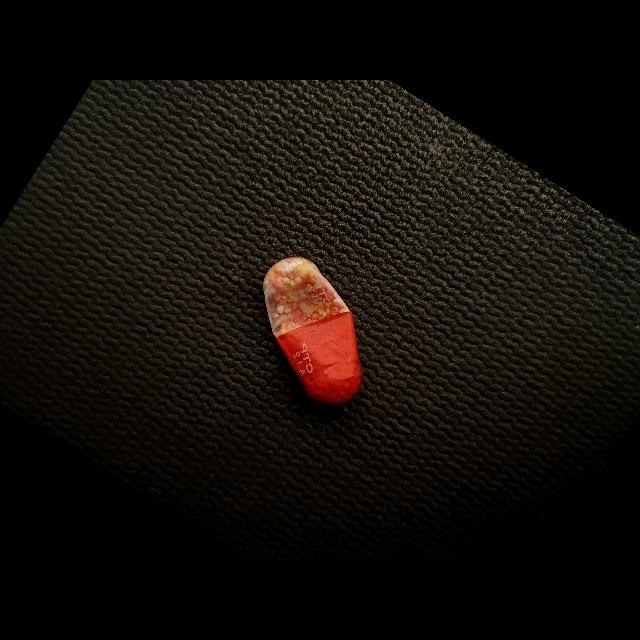Defective Capsule: (263, 257, 362, 405)
